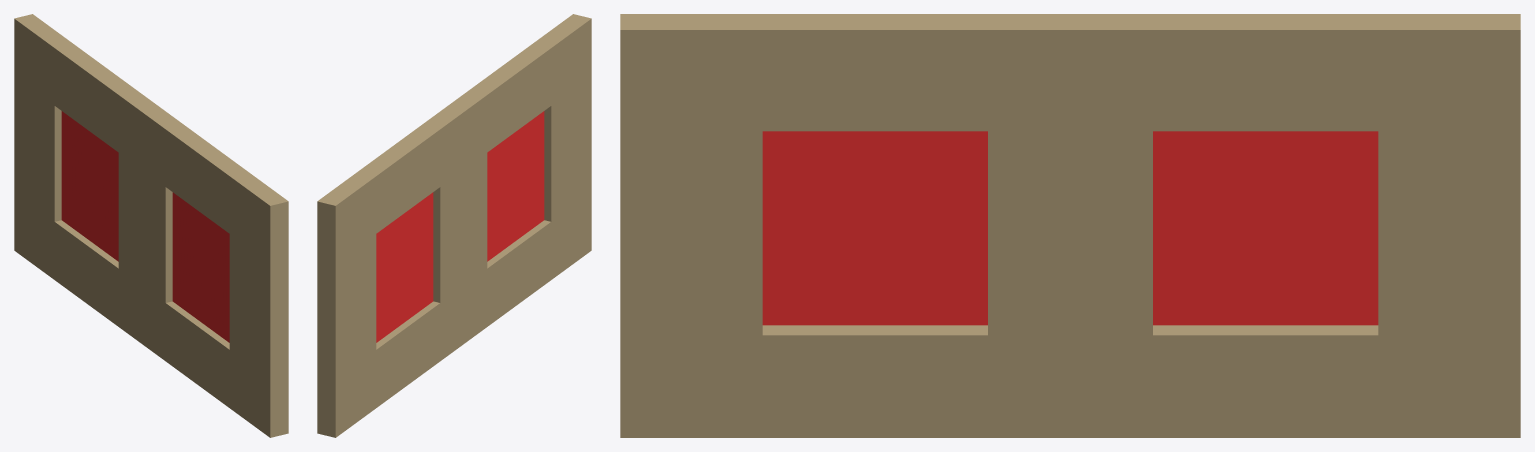
Rendered from Wall2.fbx.
3 views of the same model, side by side, from view 1: azimuth 30°, elevation 25°; view 2: azimuth 150°, elevation 25°; view 3: azimuth 270°, elevation 25° (orthographic). The views are drawn at different scales.
Visible parts, largest first — view 1: Box002; view 2: Box002; view 3: Box002.
Part boxes in pixels (x1=…): Box002: x1=14, y1=14, x2=288, y2=437; Box002: x1=317, y1=14, x2=591, y2=437; Box002: x1=620, y1=14, x2=1520, y2=437.
Size of the model in its own units: 50 by 600 by 1200.
